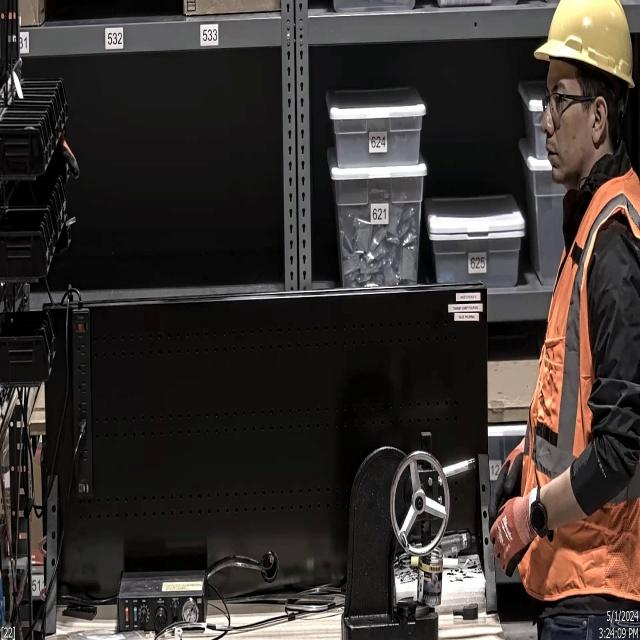construction-gloves: (487, 492, 532, 578)
